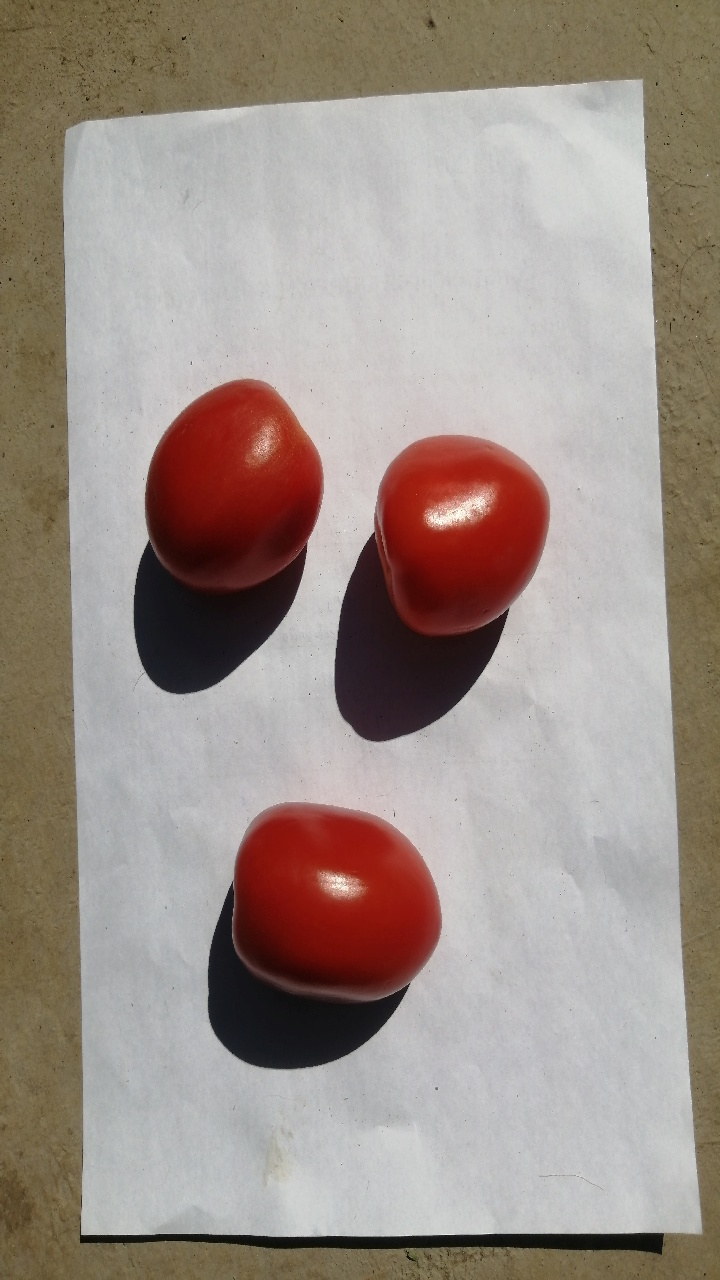tomateRojo: (209, 779, 458, 1039), (349, 394, 568, 677), (129, 337, 337, 631)
